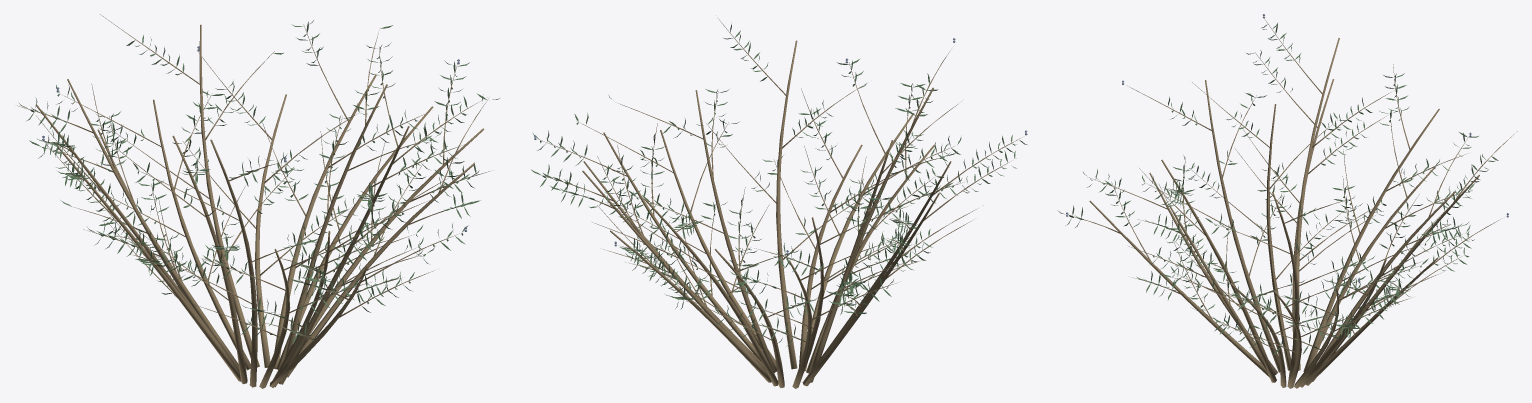
File: Romarin_1_Niveau1.fbx
3 views of the same model, side by side, from view 1: azimuth 30°, elevation 25°; view 2: azimuth 150°, elevation 25°; view 3: azimuth 270°, elevation 25° (orthographic). The views are drawn at different scales.
Parts seen in each view (by area): view 1: Romarin_1_Niveau1_Jeu; view 2: Romarin_1_Niveau1_Jeu; view 3: Romarin_1_Niveau1_Jeu.
Part boxes in pixels (<box>): Romarin_1_Niveau1_Jeu: <box>17,14,499,388</box>; Romarin_1_Niveau1_Jeu: <box>531,17,1027,388</box>; Romarin_1_Niveau1_Jeu: <box>1057,14,1517,388</box>.
Size of the model in its own units: 111 by 68.8 by 107.
